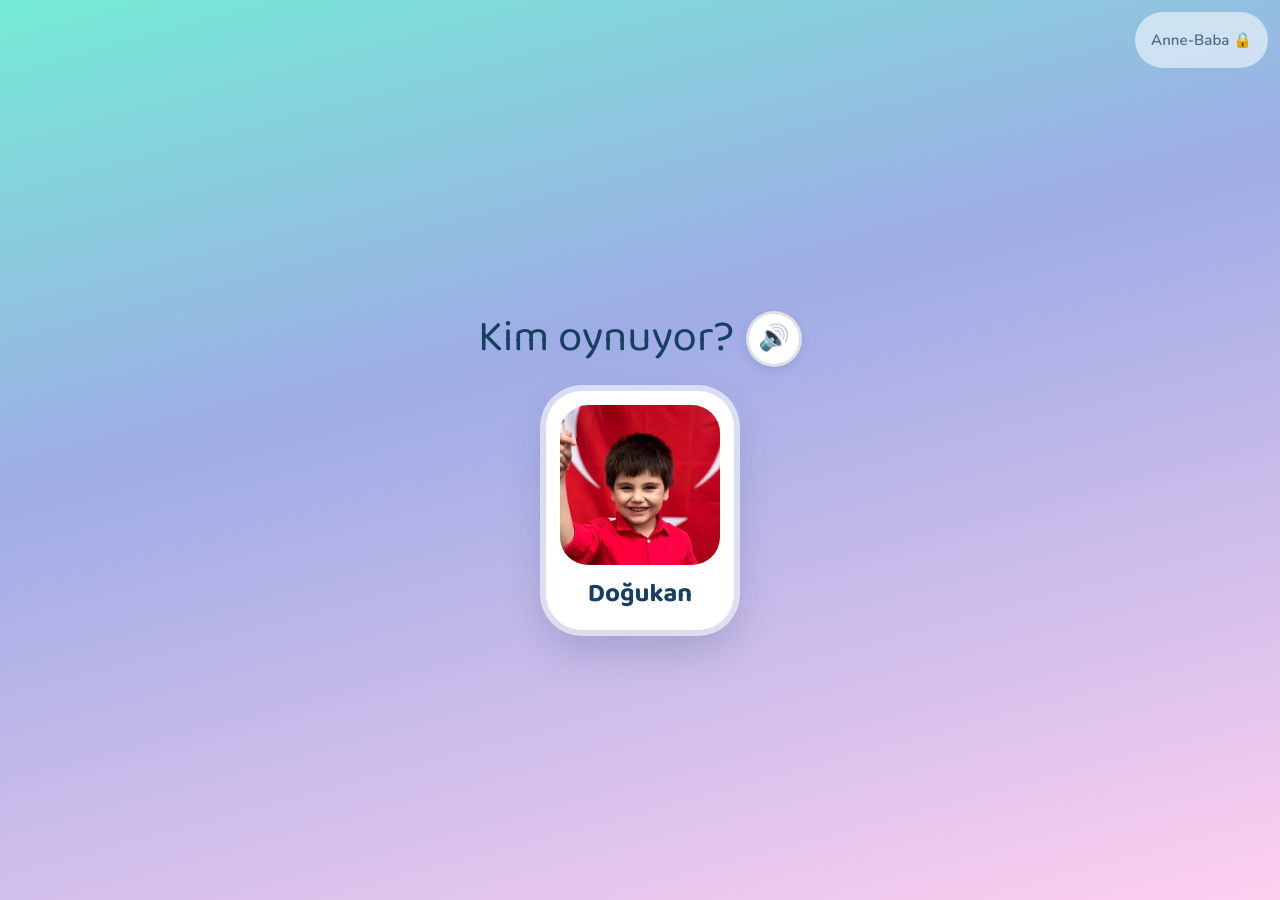
WhoIsPlaying › Anne-Baba köşesi ebeveyn kapısını açar
The width and height of the screenshot is (1280, 900).
Click the button "Anne-Baba 🔒".
click(1202, 40)  # box x1=1135 y1=12 x2=1268 y2=68
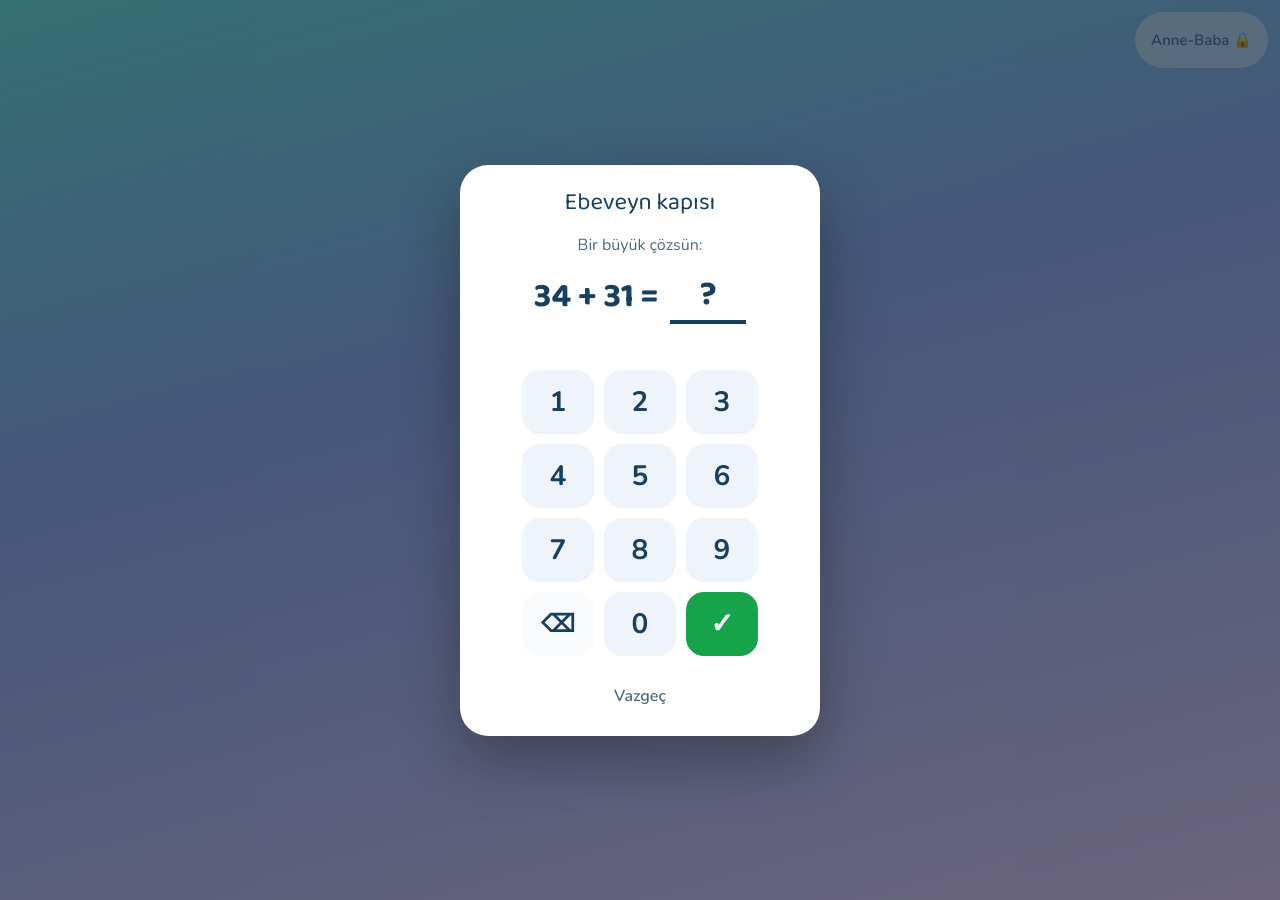
Check: the dialog is shown, box x1=460 y1=164 x2=820 y2=736
